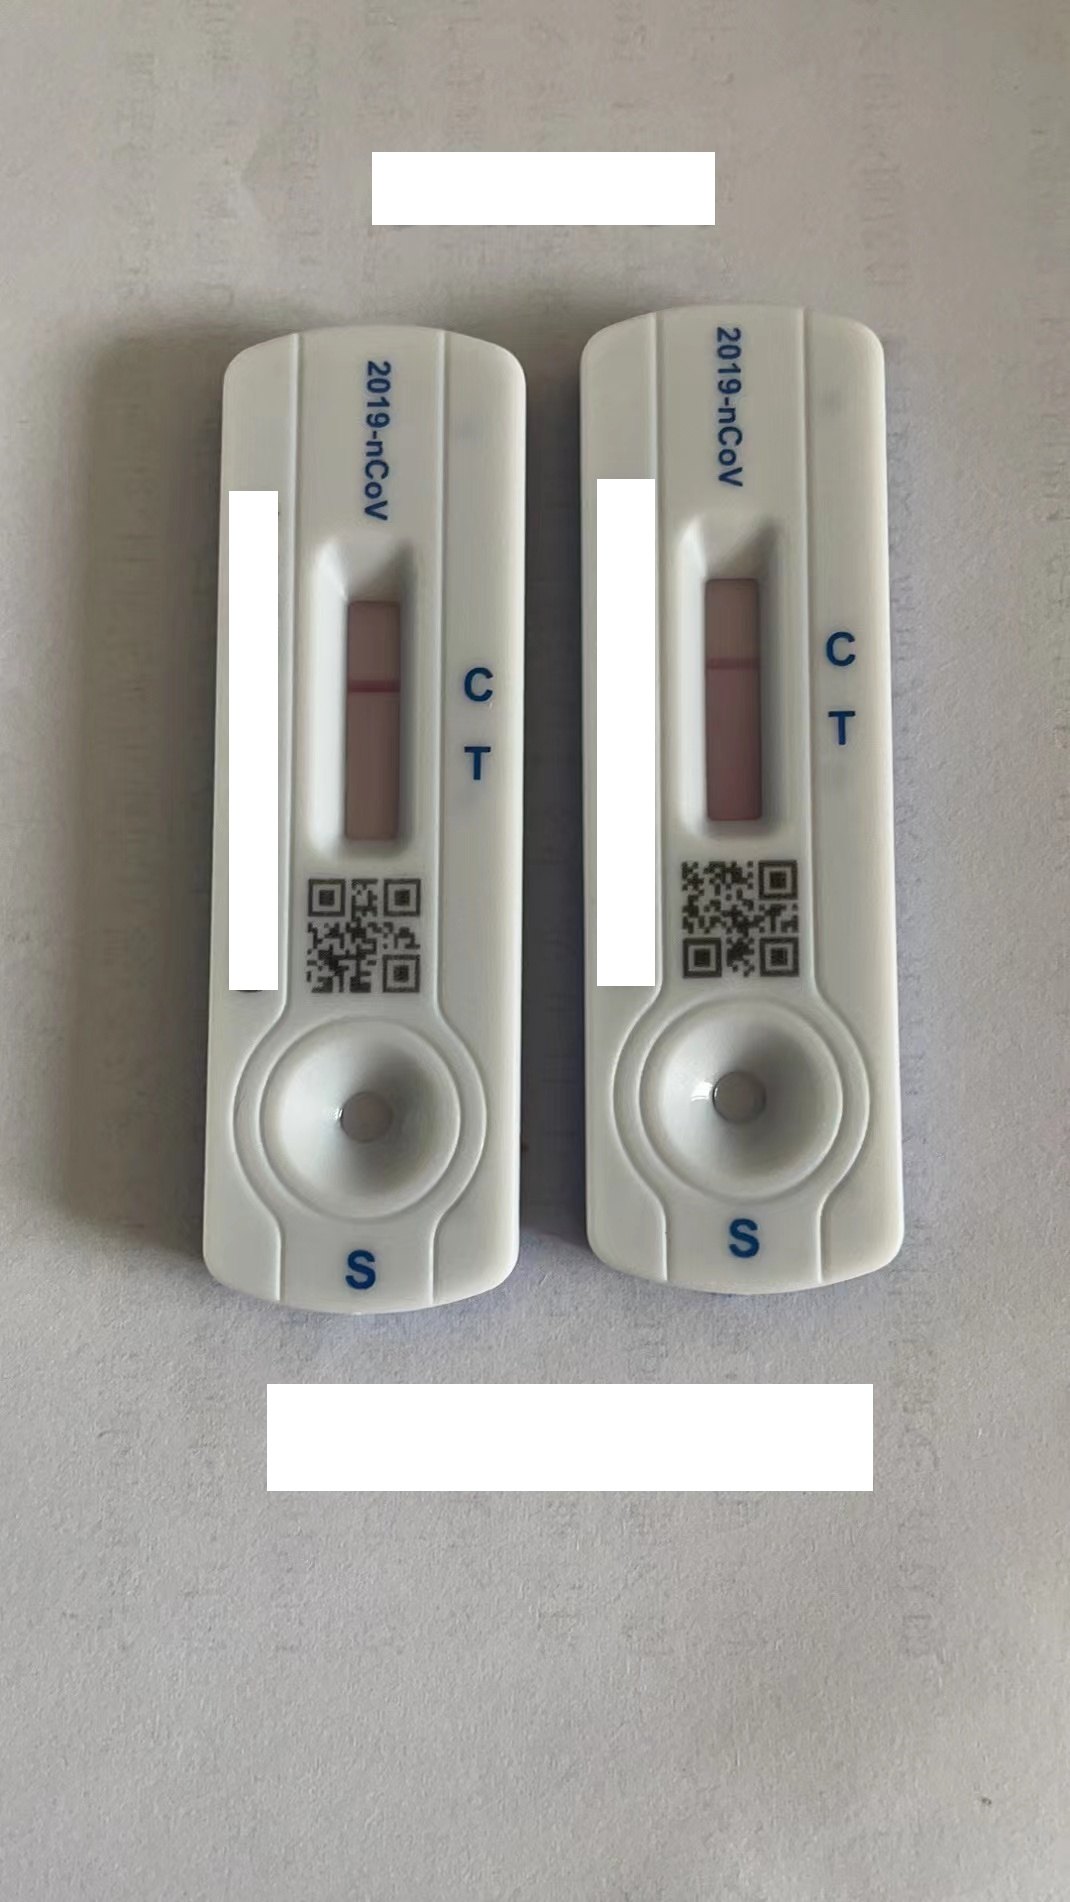negative: (687, 525, 775, 858), (336, 566, 412, 869)
